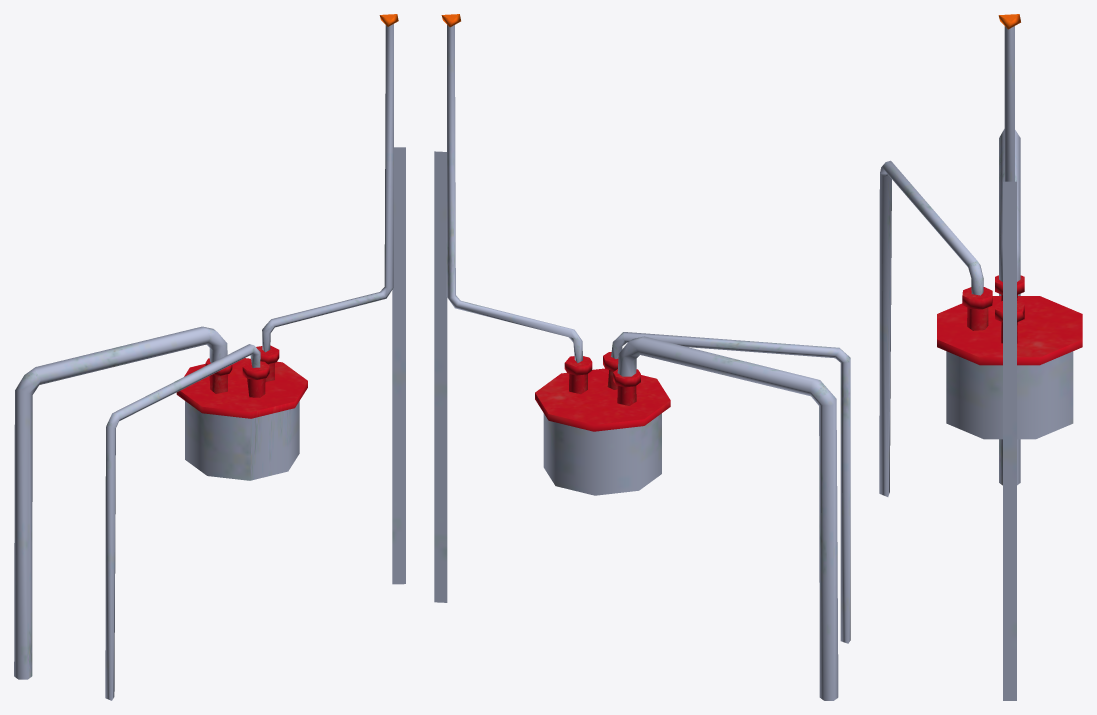
File: refuel-area-piping-cbj_LOD02.gltf
3 views of the same model, side by side, from view 1: azimuth 30°, elevation 25°; view 2: azimuth 150°, elevation 25°; view 3: azimuth 270°, elevation 25° (orthographic). The views are drawn at different scales.
Visible parts, largest first — view 1: Cube02.001; view 2: Cube02.001; view 3: Cube02.001.
Part boxes in pixels (x1,y1,x2,y2): Cube02.001: (14, 14, 405, 700); Cube02.001: (434, 14, 850, 700); Cube02.001: (879, 14, 1082, 700).
Bounding box in the file's own units: 4.94 × 6.96 × 1.89.
